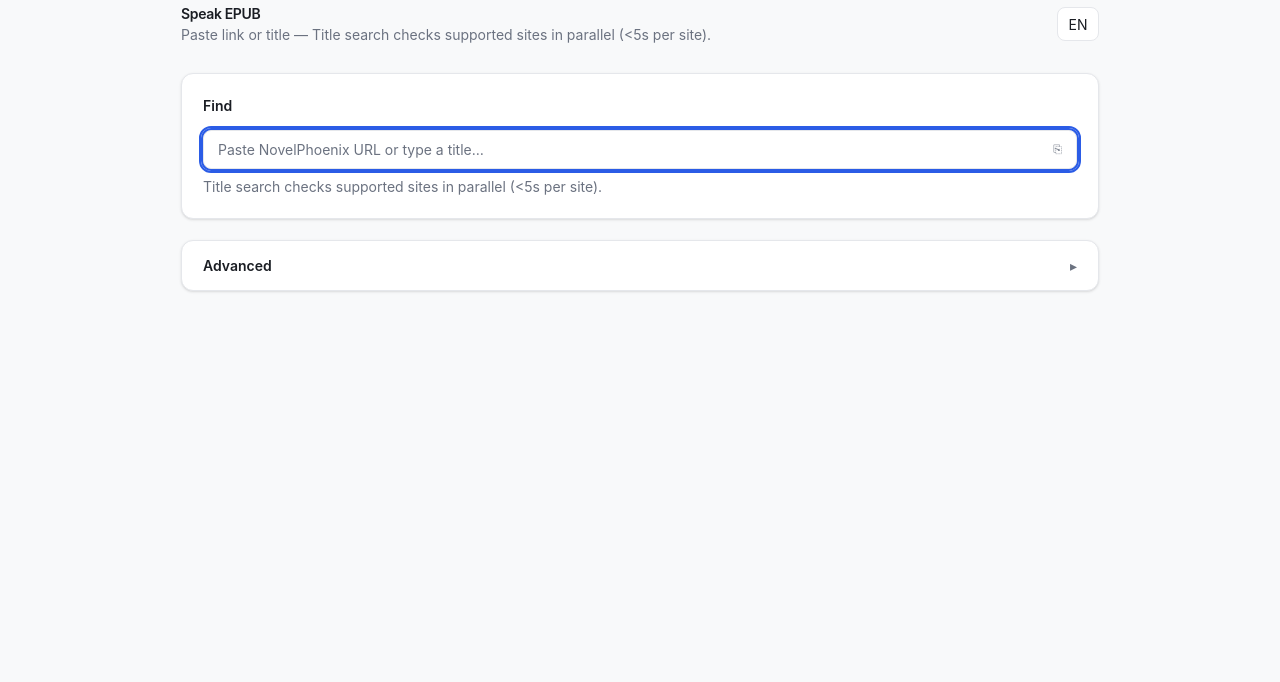
App advanced panel integration › expanded panel hosts filters (input + table) and inline settings
What coordinates should you click on to do the following:
click the button with test id "advanced-toggle"
I would click on:
 (237, 265)
Its box is 182,240 -> 1098,290.
(page scrolled)
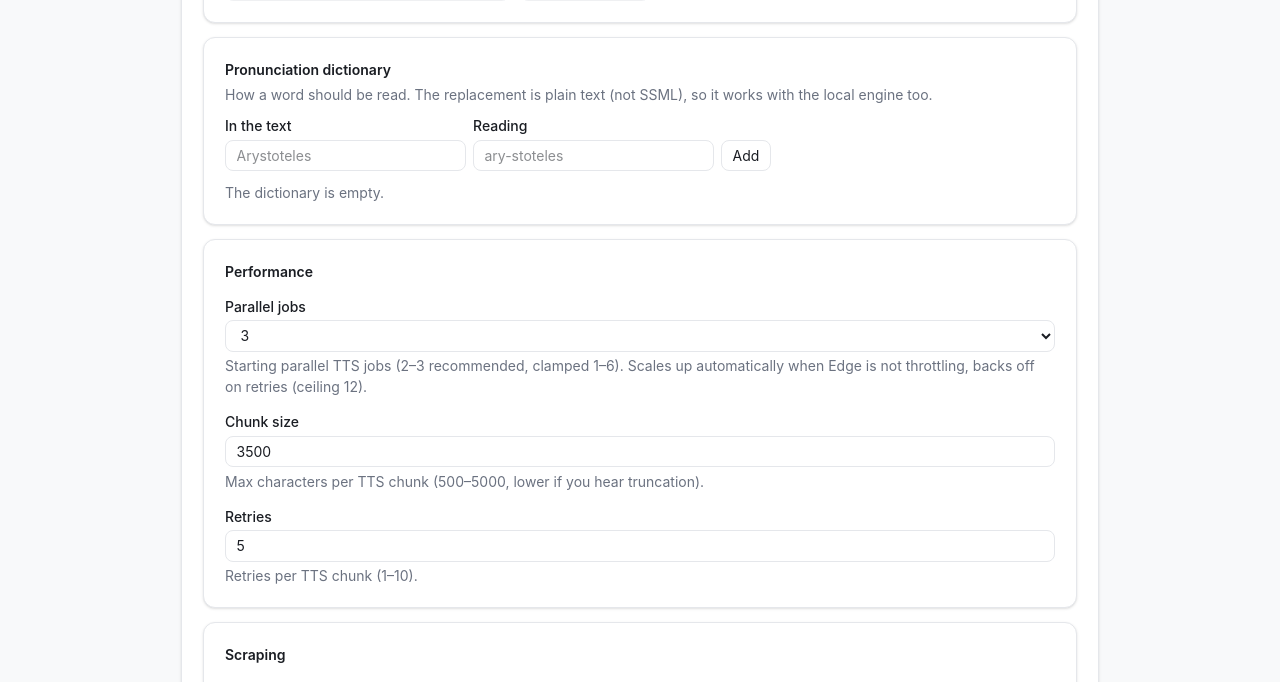
Expected: the dropdown with test id "settings-perf-parallel" is shown, 225,320 -> 1055,352
